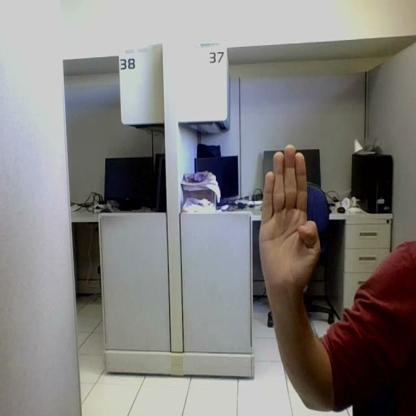B: (259, 145, 320, 293)
